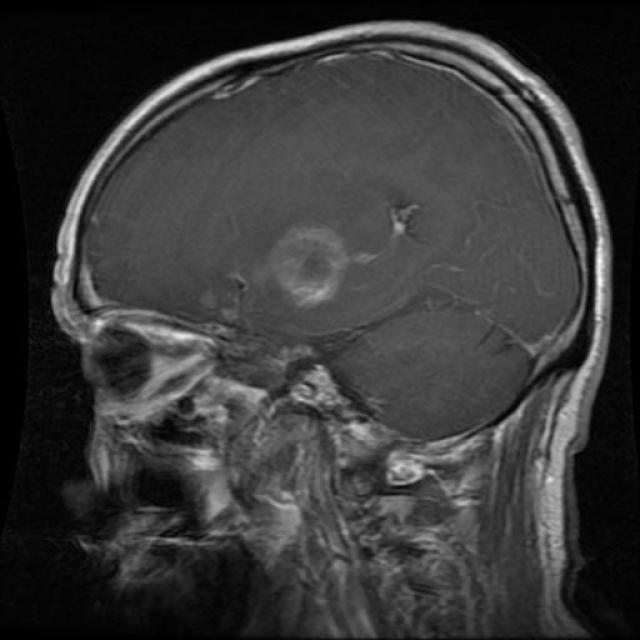glioma: (268, 224, 348, 308)
